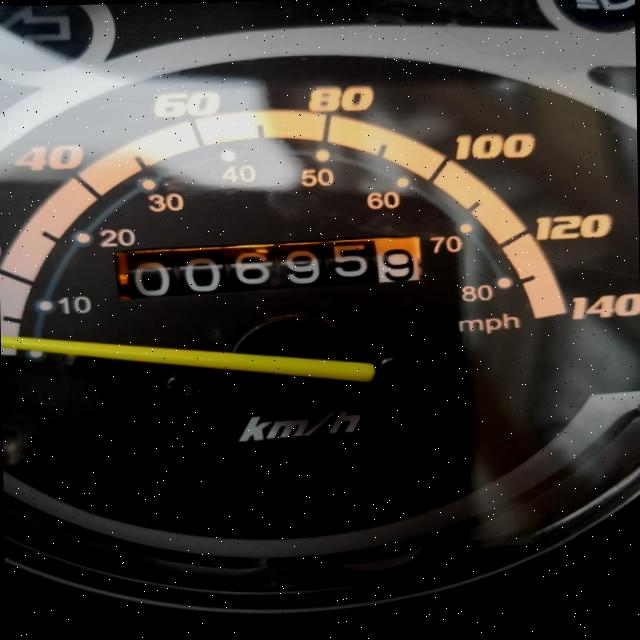odometer: (105, 234, 430, 304)
